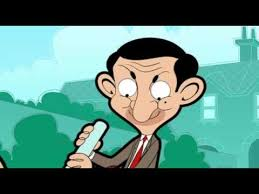mrbean: (63, 38, 206, 169)
